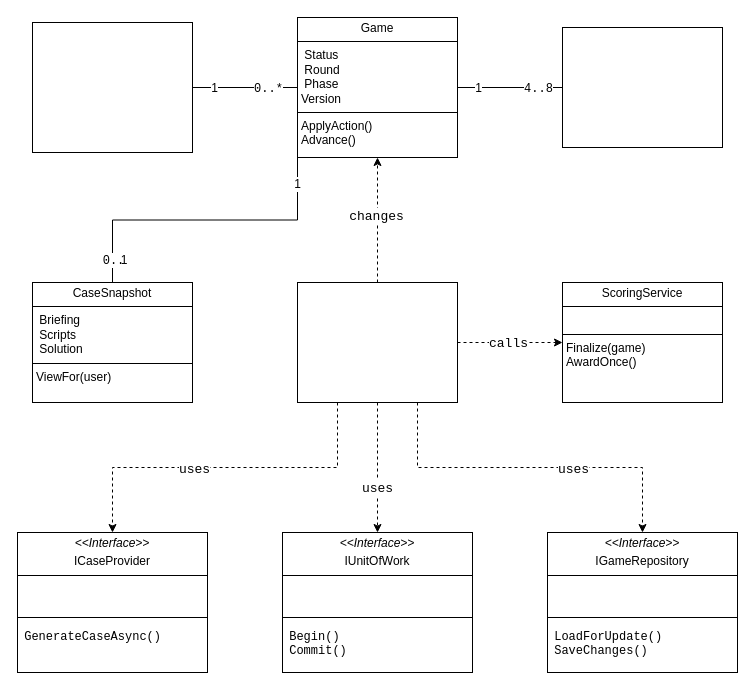
This 755x690 diagram has some shape labels left out. Here are the shapes that lost their labels. From the top down, the box of each, then its label:
(32, 22, 192, 152): Room Id Code HostUserId AddMember() Start()
(562, 26, 722, 148): GamePlayer Role CharacterKey GraceUsed Reconnect() Depart( )
(296, 282, 458, 402): GameService Execute(command) CheckPermissions( )
